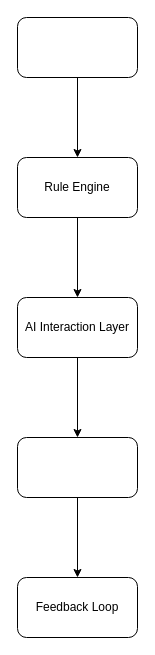
The diagram is 155 pixels wide and 655 high, and some of its shapes have lost their labels. Here are the shapes that lost their labels. From the top down, the box of each, then its label:
(16, 16, 138, 78): Human Expert
(16, 436, 138, 498): Decision Output
